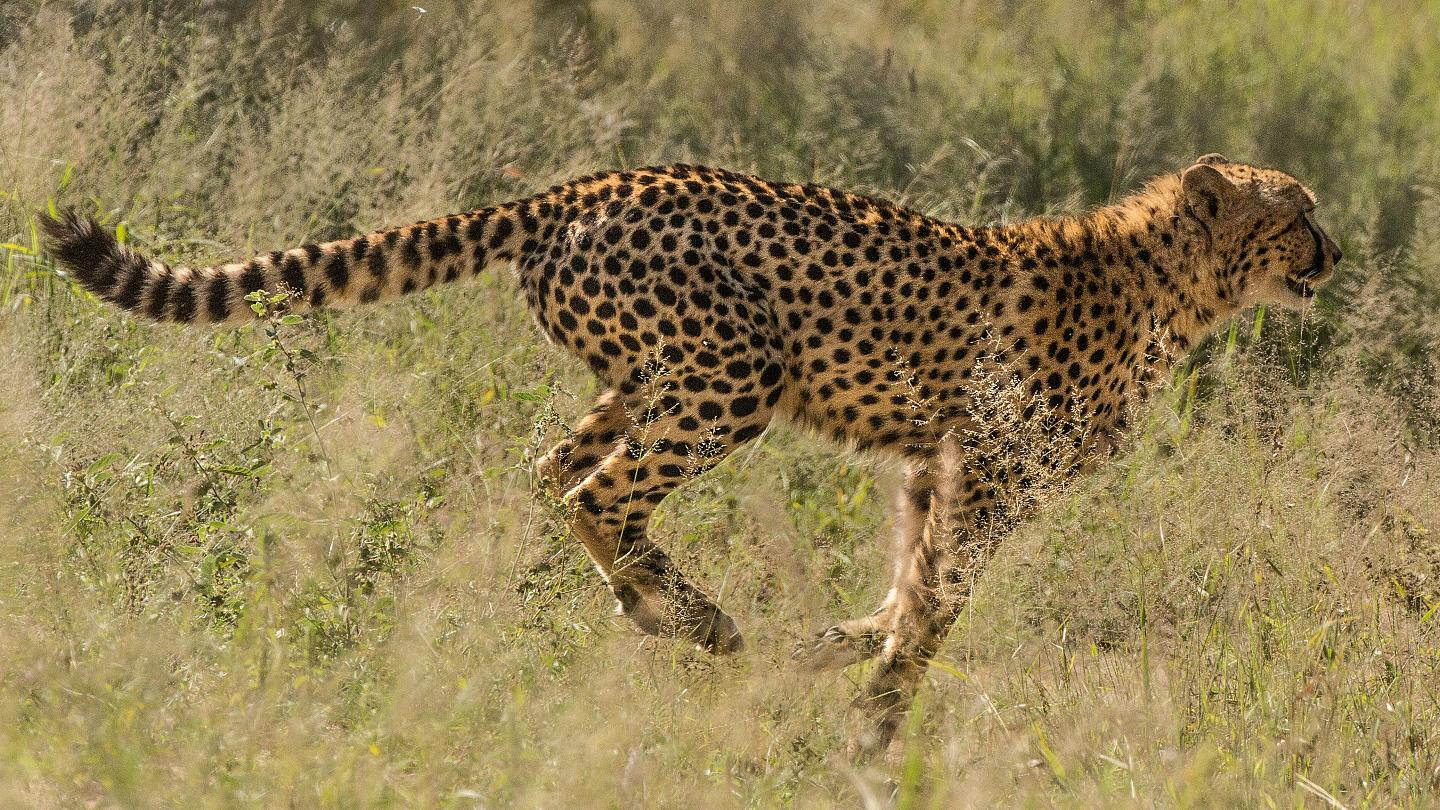cheetah: (1156, 144, 1365, 344)
